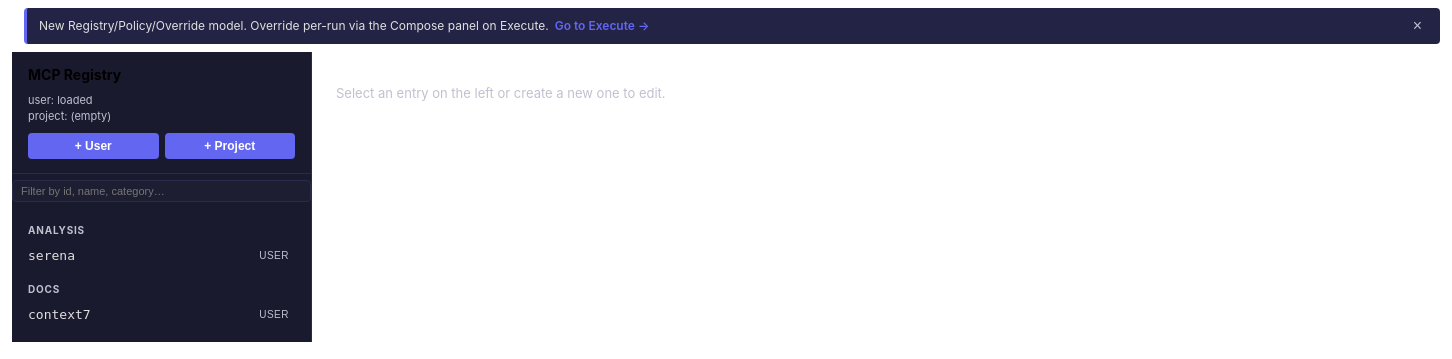
Test: McpRegistryPage › filters entries by substring (id, name, category, description)
Check: the text "serena" is shown, box [28,248,75,263]
Type "docs" into the field named "Filter MCP entries" at [162, 191], box [12,180,311,202]
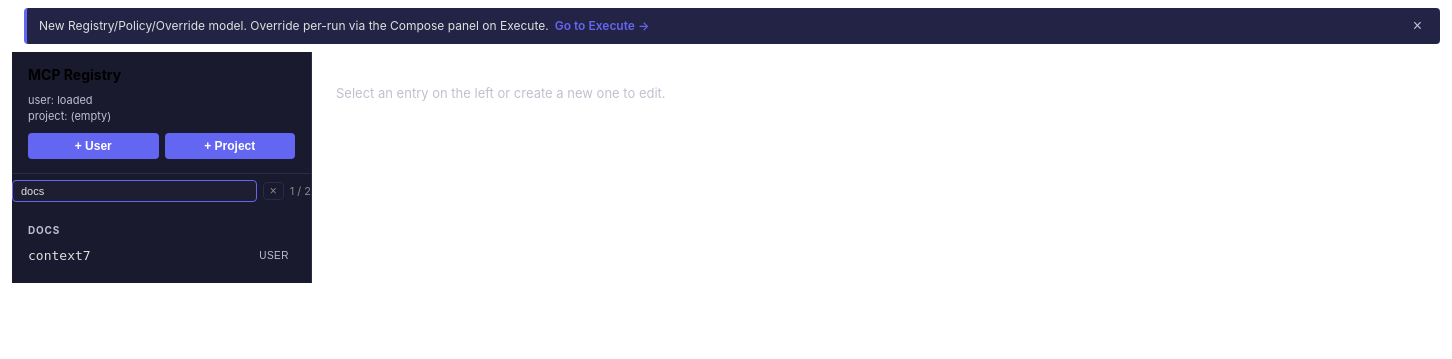
Check: the text "context7" is shown, box [28,248,91,263]
Check: the button "serena" is gone
Check: the text "1 / 2" is shown, box [290,184,311,198]
